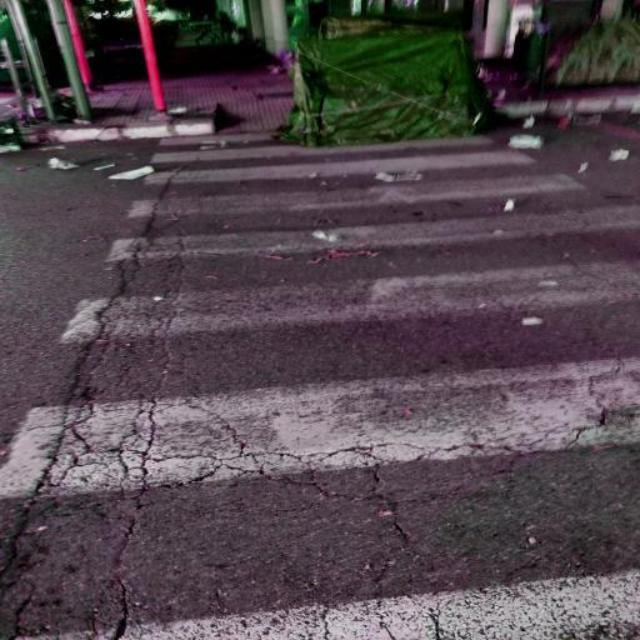sidewalk: (10, 131, 636, 635)
